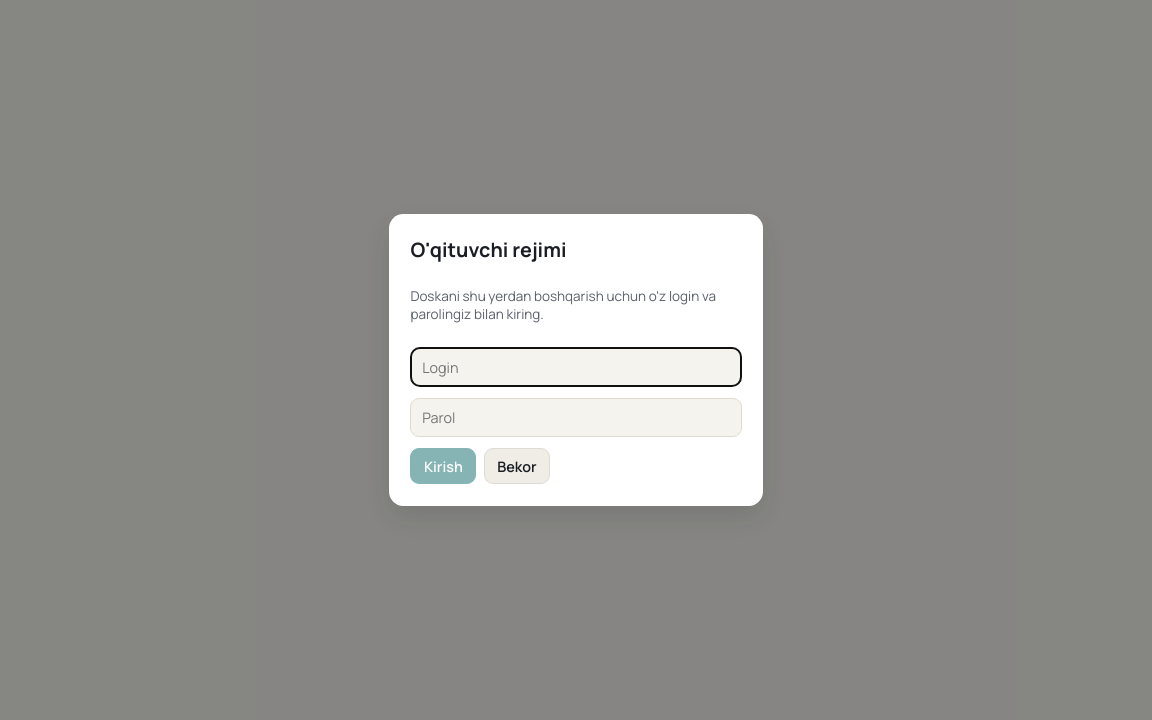
Scenario: TeacherLogin › signs in with the typed login and password and shows a refusal
This screenshot has width=1152, height=720.
Type "shoxrux" into the field with placeholder "Login" at (576, 367), box [410,347,742,387]
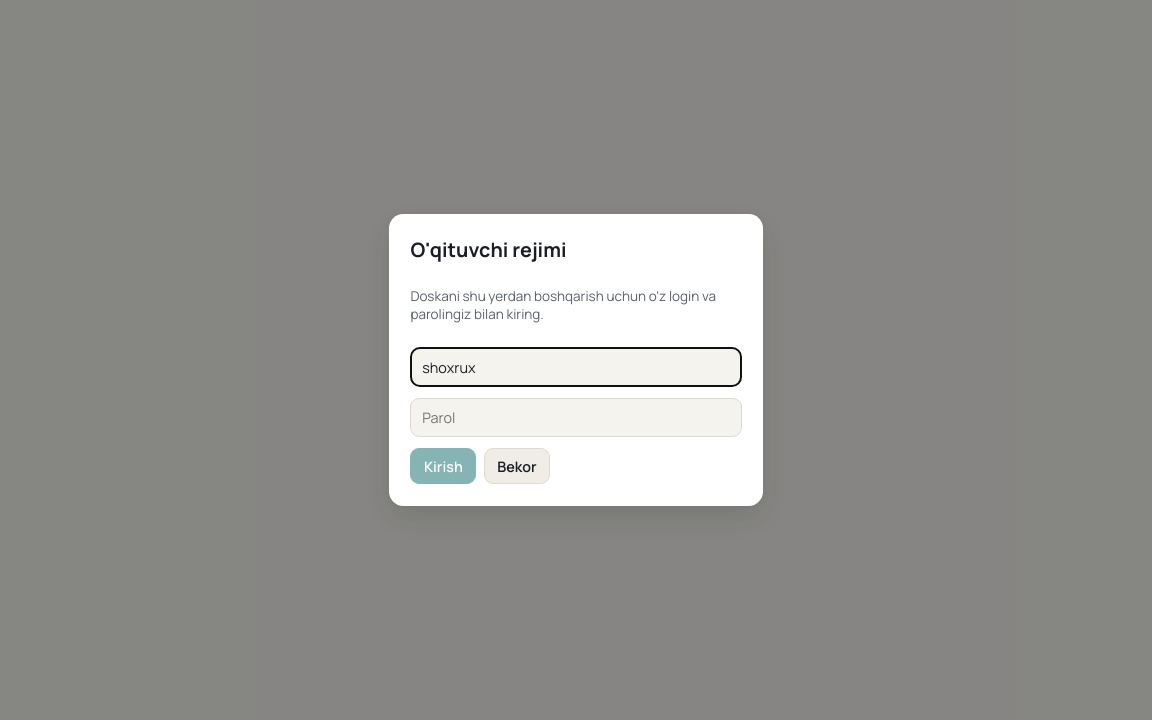
Type "secret-1" into the password field with placeholder "Parol" at (576, 418), box [410,398,742,437]
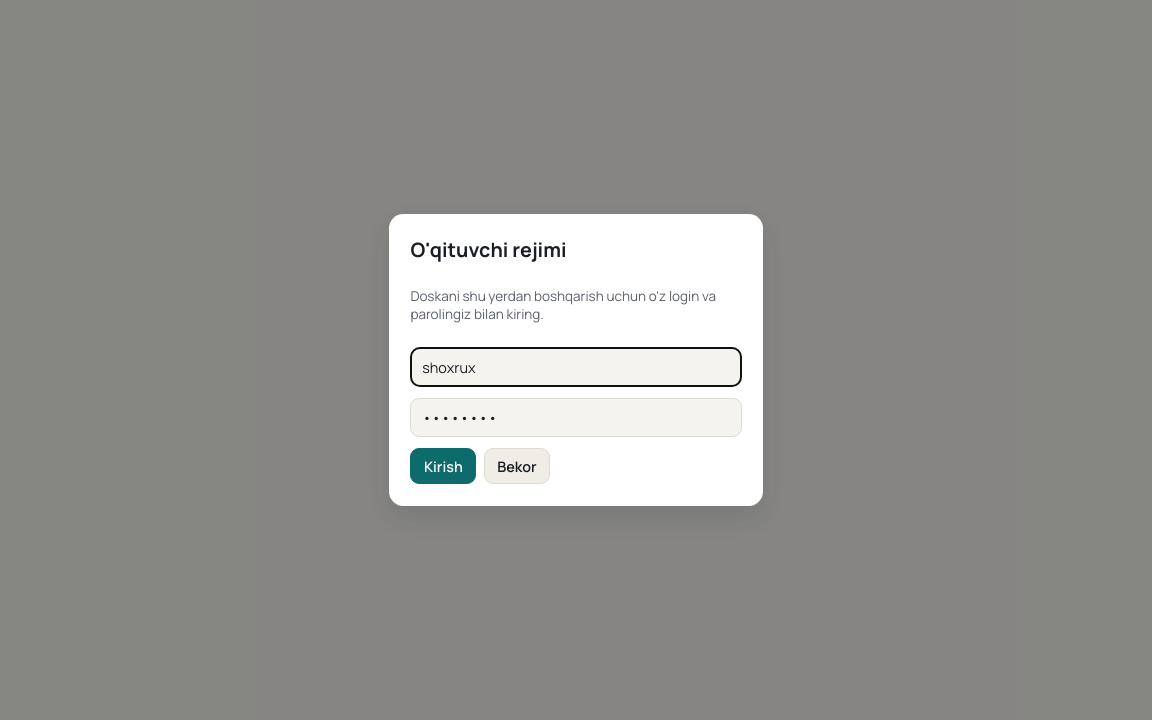
Click the button "Kirish" at (443, 466), box [410,448,476,484]
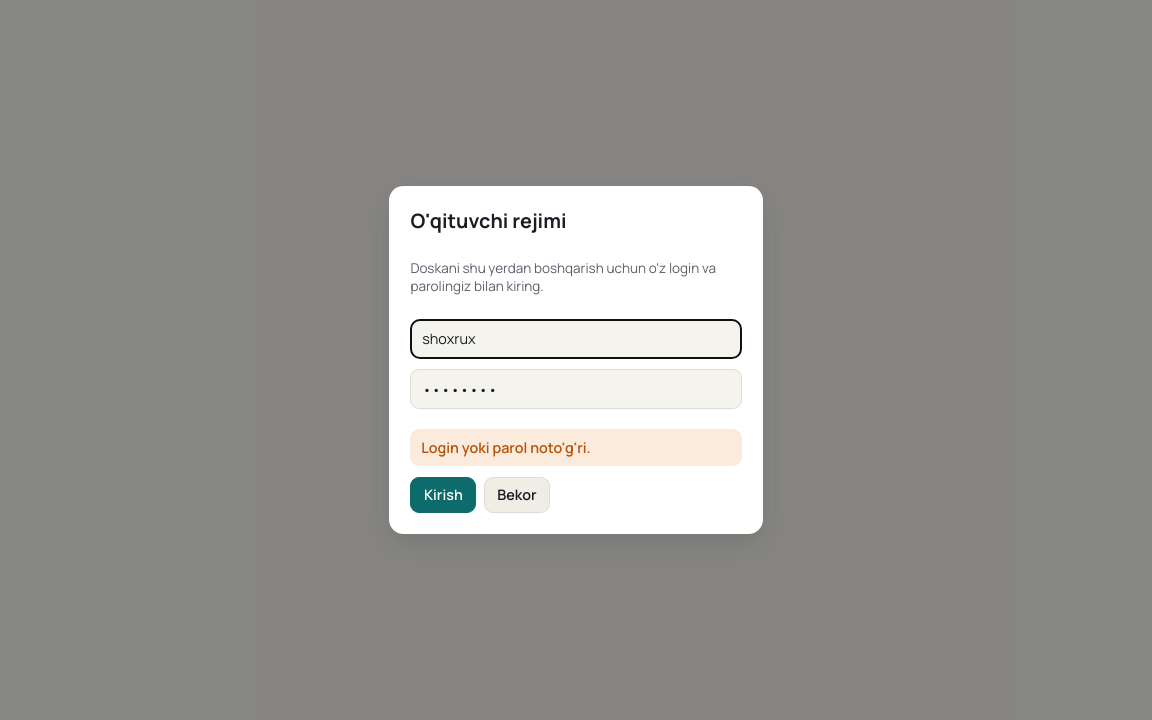
Result: the text "Login yoki parol noto'g'ri." is shown at [410,429,742,466]
